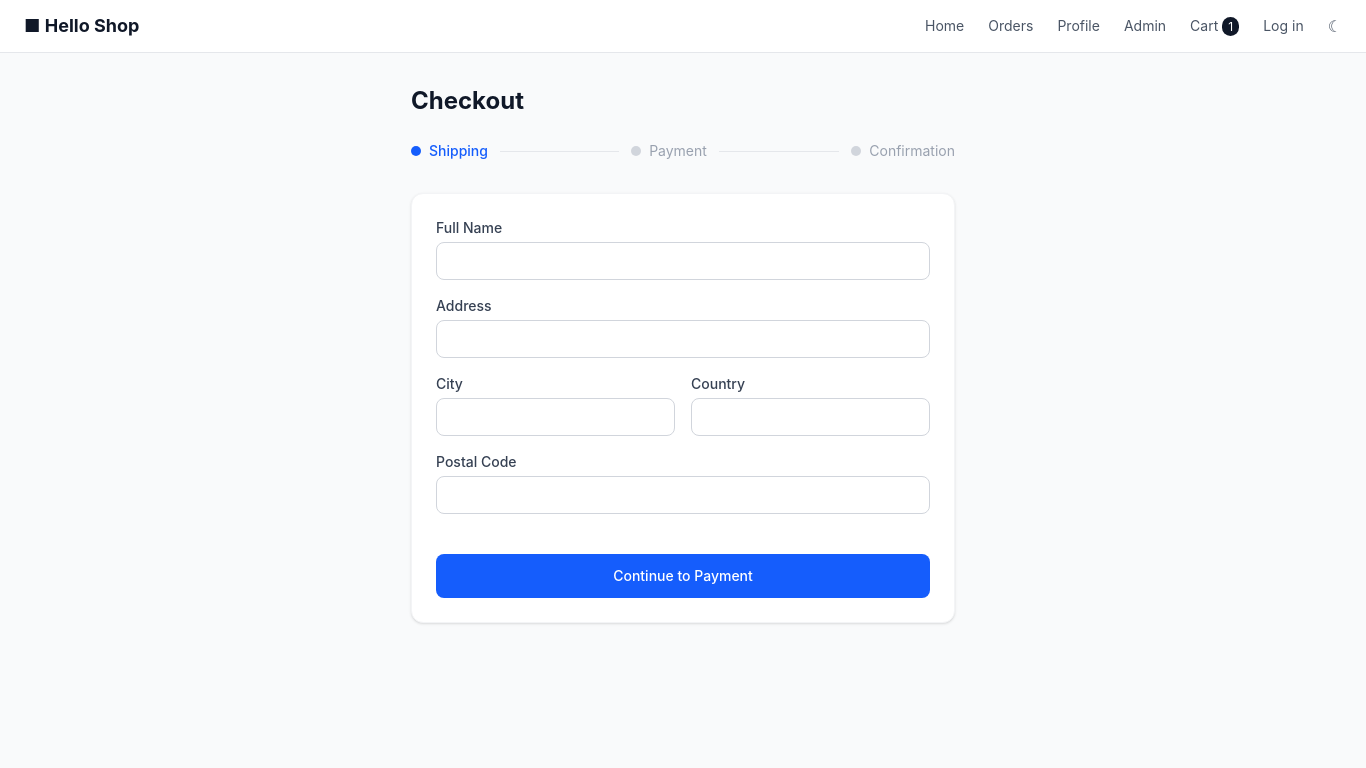
Test: Checkout flow › shows all five shipping errors when the form is submitted empty
Click the button "Continue to Payment".
click(683, 576)  # box [436,554,930,598]
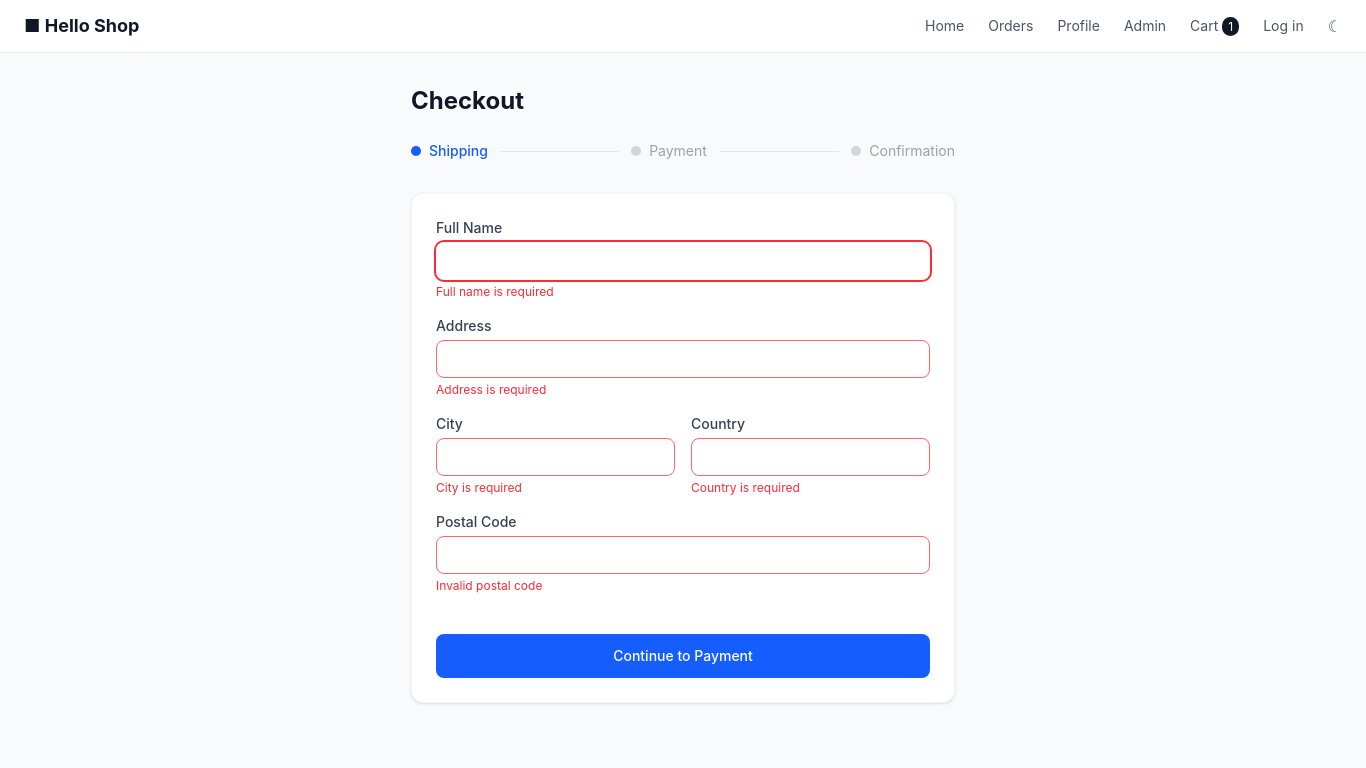
Check: the text "Full name is required" is shown, box [436,284,554,299]
Check: the text "Address is required" is shown, box [436,382,546,397]
Check: the text "City is required" is shown, box [436,480,522,495]
